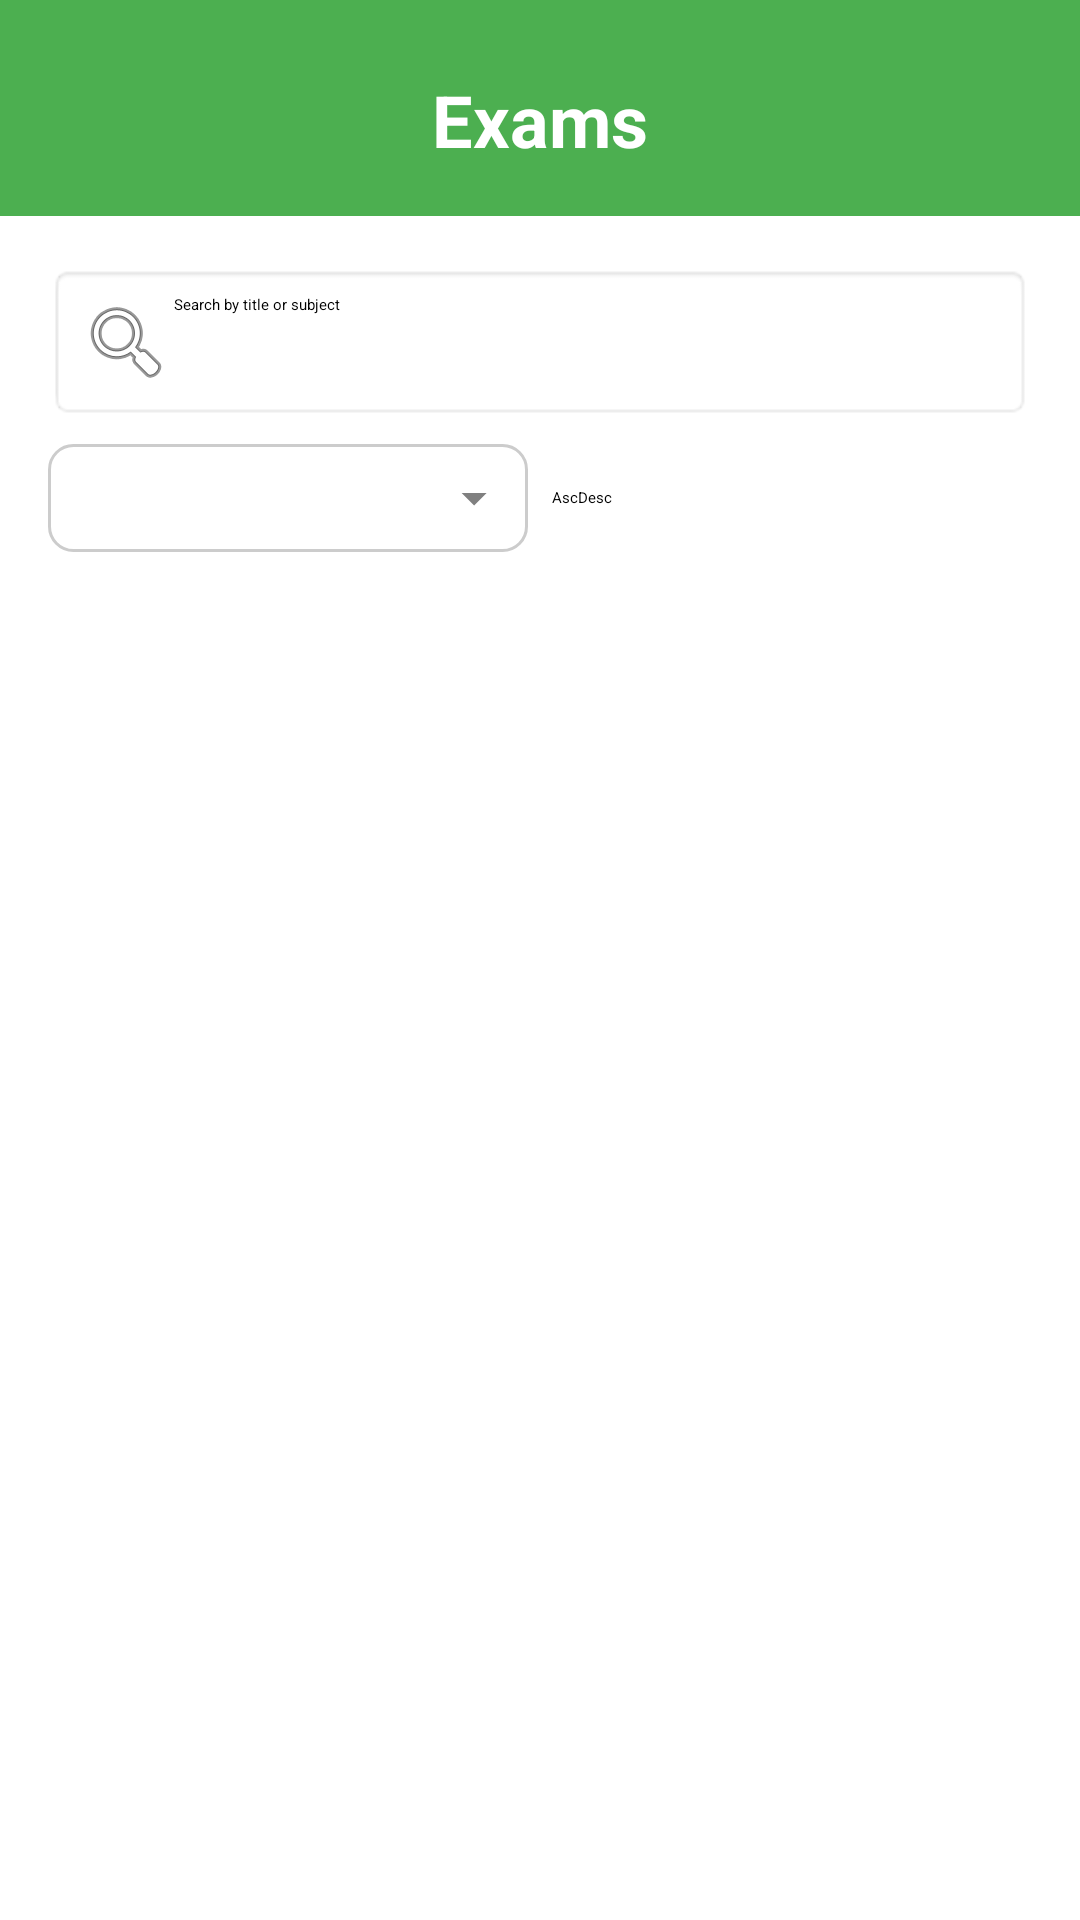

Icon click points for this 1080px x 1920px phone screenshot, format point (x, y):
Dropdown: point (474, 499)
